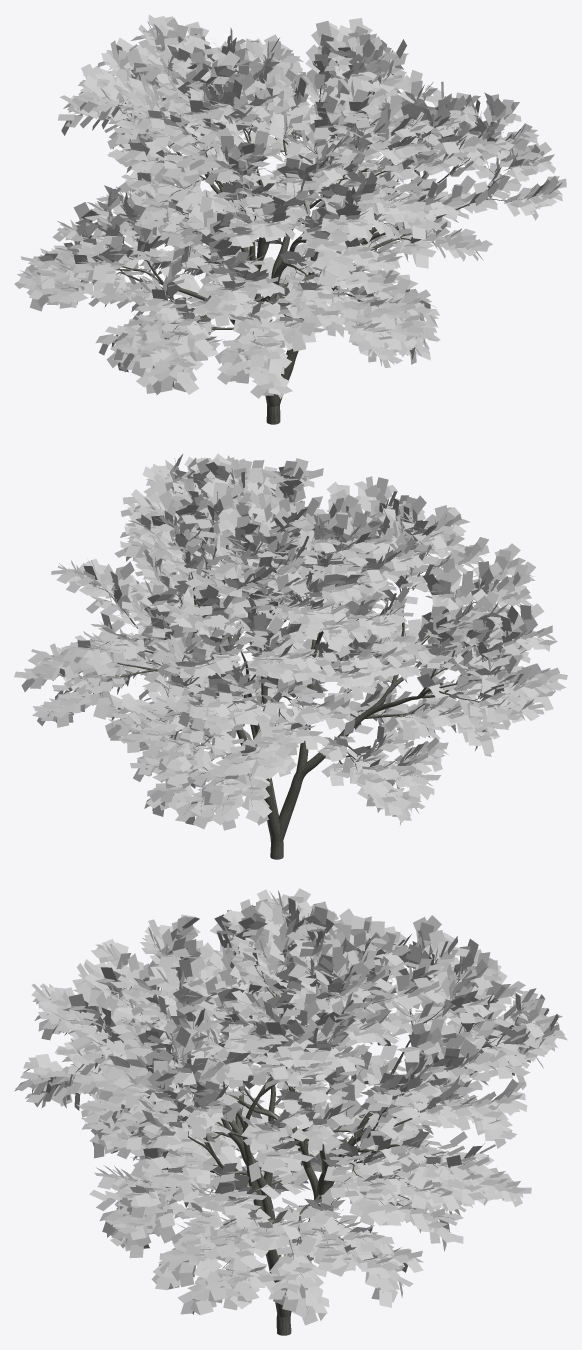
Rendered from Realistic Foliage Pack.fbx.
3 views of the same model, one above another, from view 1: azimuth 30°, elevation 25°; view 2: azimuth 150°, elevation 25°; view 3: azimuth 270°, elevation 25° (orthographic). The views are drawn at different scales.
Parts seen in each view (by area): view 1: leaves, Tree_01; view 2: leaves, Tree_01; view 3: leaves, Tree_01.
Part boxes in pixels (x1=…): leaves: x1=14, y1=14, x2=566, y2=398; Tree_01: x1=29, y1=49, x2=542, y2=424; leaves: x1=14, y1=453, x2=567, y2=830; Tree_01: x1=38, y1=474, x2=539, y2=859; leaves: x1=14, y1=888, x2=567, y2=1325; Tree_01: x1=46, y1=904, x2=539, y2=1335.
Bounding box in the file's own units: 1387 × 1042 × 1267.
